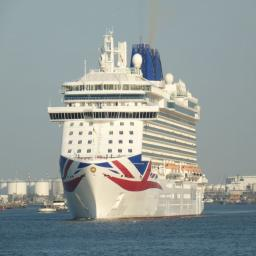cruises: (47, 26, 209, 225)
